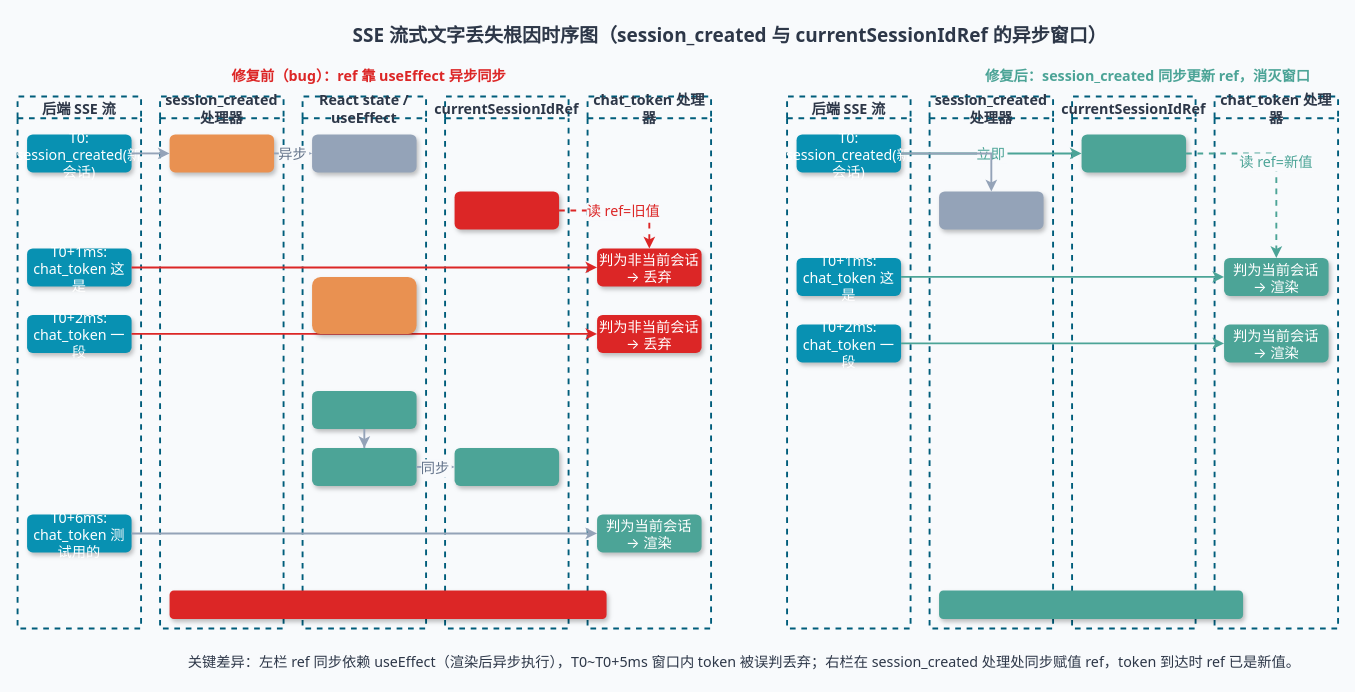
This 1355x692 diagram has some shape labels left out. The shapes that lost their labels are listed below. From the top down, each one's centre as x and y in pixels, then its label:
At (222,154): "setAndPersistSession(新)".
At (365,154): "setState(新) 已调用但排队".
At (1134,154): "同步: ref.current = 新值".
At (507,211): "ref.current = 旧值".
At (992,211): "再调 setAndPersistSession(新)".
At (365,306): "窗口期：ref 未同步，token 全丢".
At (365,411): "T0+5ms: React 渲染完成".
At (365,468): "useEffect 执行".
At (507,468): "ref.current = 新值".
At (388,605): "结果：寒武纪(688256) → 武(256)，前几个字保留后全丢".
At (1091,605): "结果：全文完整渲染，无窗口".
